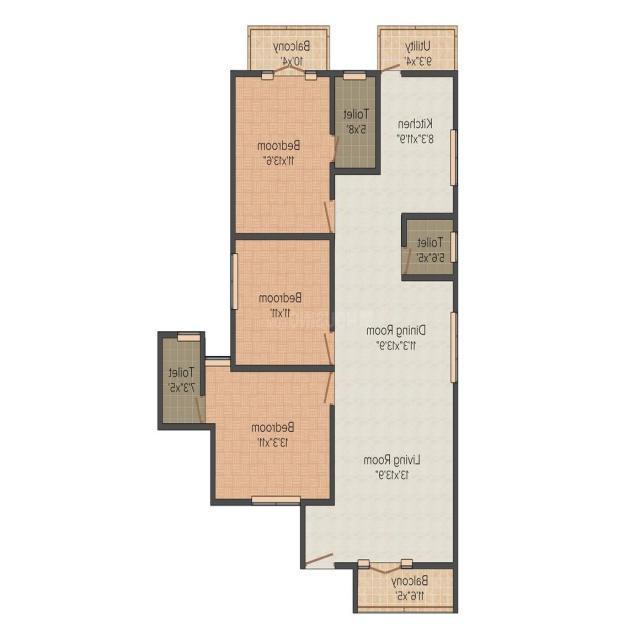Balcony-Sitout: (352, 565, 459, 612), (246, 26, 330, 74)
Bedroom: (229, 71, 335, 238), (230, 234, 336, 366)
Bedroom with Toilet: (159, 329, 333, 504)
Kitchen: (377, 70, 457, 219)
Living: (335, 410, 460, 568)
Toilet: (329, 70, 382, 175), (157, 330, 205, 432), (400, 214, 459, 282)
Utility: (377, 25, 459, 77)
